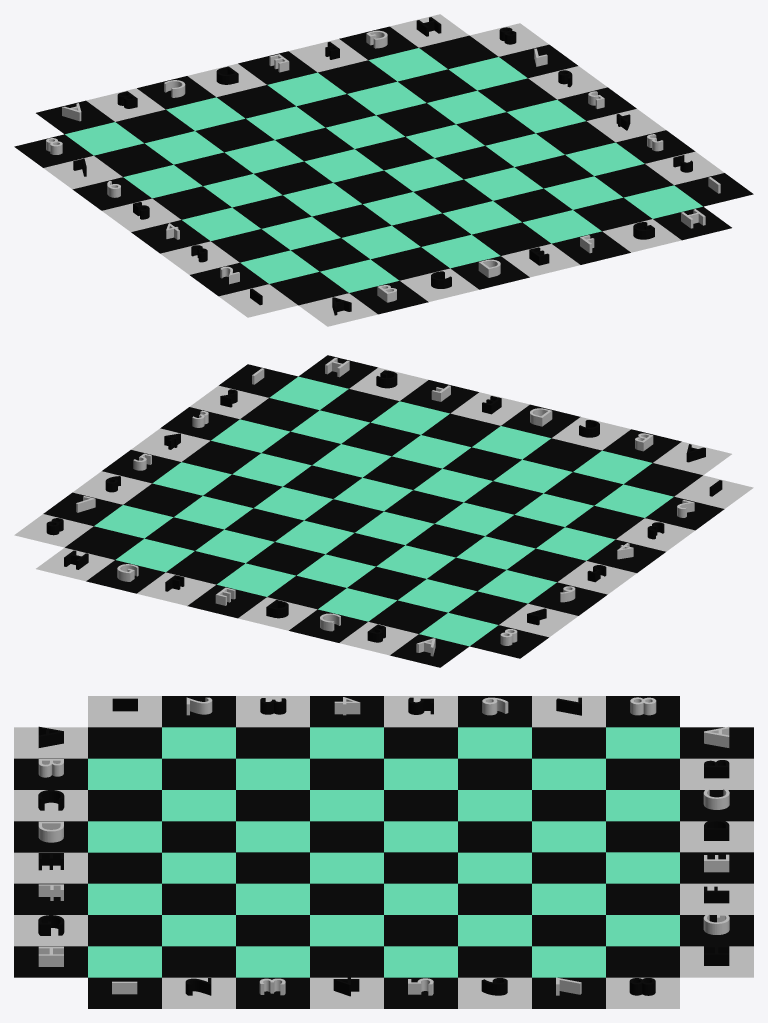
The model's file is board.obj.
The picture shows the model from 3 angles, top to bottom: view 1: azimuth 30°, elevation 25°; view 2: azimuth 150°, elevation 25°; view 3: azimuth 270°, elevation 25°; orthographic projection. The views are drawn at different scales.
Visible parts, largest first — view 1: WhiteSquares, BlackSquares, 1.right, 1.left, 7.left, 7.right, 4.right, 4.left, 6.left, 6.right, f.bottom, 3.left (+22 smaller); view 2: BlackSquares, WhiteSquares, 1.left, 1.right, 6.left, 3.right, 4.left, 4.right, 3.left, 6.right, f.top, 2.right (+22 smaller); view 3: BlackSquares, WhiteSquares, 1.left, 1.right, 7.left, f.bottom, f.top, 7.right, 5.right, 3.left, 3.right, 5.left (+25 smaller).
Boxes of the visible parts, x1,y1,x2,y2 form: WhiteSquares: [65, 48, 702, 292]; BlackSquares: [94, 35, 673, 305]; 1.right: [674, 173, 753, 206]; 1.left: [219, 284, 297, 317]; 7.left: [43, 155, 122, 189]; 7.right: [499, 44, 577, 78]; 4.right: [587, 109, 665, 142]; 4.left: [131, 220, 210, 253]; 6.left: [72, 177, 151, 210]; 6.right: [528, 66, 607, 99]; f.bottom: [552, 231, 630, 264]; 3.left: [160, 241, 239, 274]; BlackSquares: [65, 389, 702, 633]; WhiteSquares: [94, 376, 673, 646]; 1.left: [674, 475, 753, 508]; 1.right: [219, 364, 297, 397]; 6.left: [528, 582, 607, 615]; 3.right: [160, 407, 239, 440]; 4.left: [587, 539, 665, 572]; 4.right: [131, 428, 210, 461]; 3.left: [616, 518, 695, 551]; 6.right: [72, 471, 151, 504]; f.top: [137, 572, 215, 605]; 2.right: [190, 385, 268, 419]; BlackSquares: [88, 727, 679, 977]; WhiteSquares: [88, 727, 679, 977]; 1.left: [88, 696, 161, 727]; 1.right: [88, 977, 161, 1008]; 7.left: [532, 696, 605, 727]; f.bottom: [14, 883, 87, 914]; f.top: [680, 883, 753, 914]; 7.right: [532, 977, 605, 1008]; 5.right: [384, 977, 457, 1008]; 3.left: [236, 696, 309, 727]; 3.right: [236, 977, 309, 1008]; 5.left: [384, 696, 457, 727].
Bounding box in the file's own units: 60 × 1 × 60.
